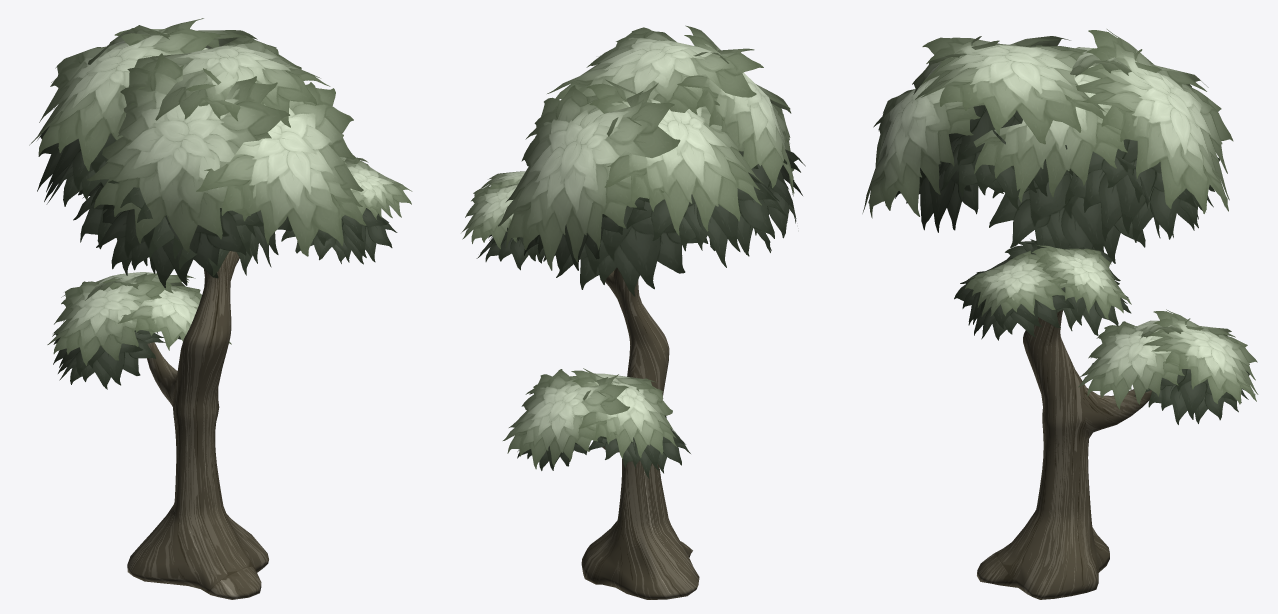
Rendered from Tree.fbx.
3 views of the same model, side by side, from view 1: azimuth 30°, elevation 25°; view 2: azimuth 150°, elevation 25°; view 3: azimuth 270°, elevation 25° (orthographic). The views are drawn at different scales.
Visible parts, largest first — view 1: polySurface2411; view 2: polySurface2411; view 3: polySurface2411.
Boxes of the visible parts, left/top/right/bottom form: polySurface2411: left=29, top=18, right=412, bottom=599; polySurface2411: left=461, top=25, right=805, bottom=599; polySurface2411: left=862, top=29, right=1258, bottom=599.
Size of the model in its own units: 37.67 by 52.63 by 36.62.
